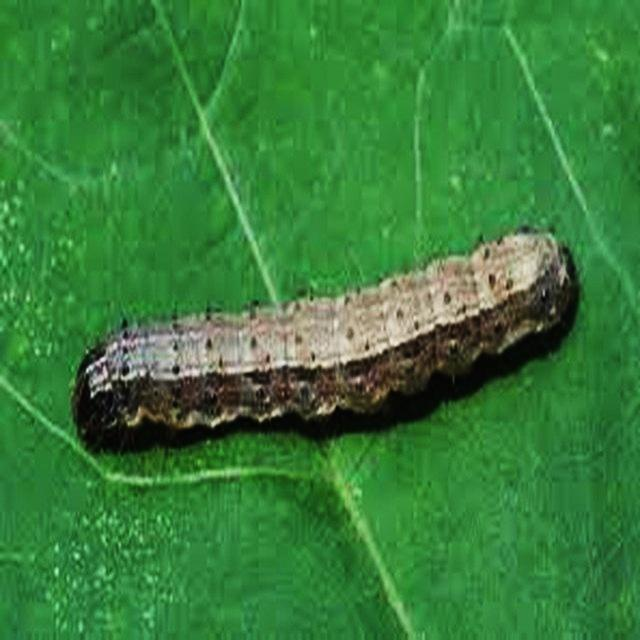gusano_cogollero: (67, 221, 580, 449)
